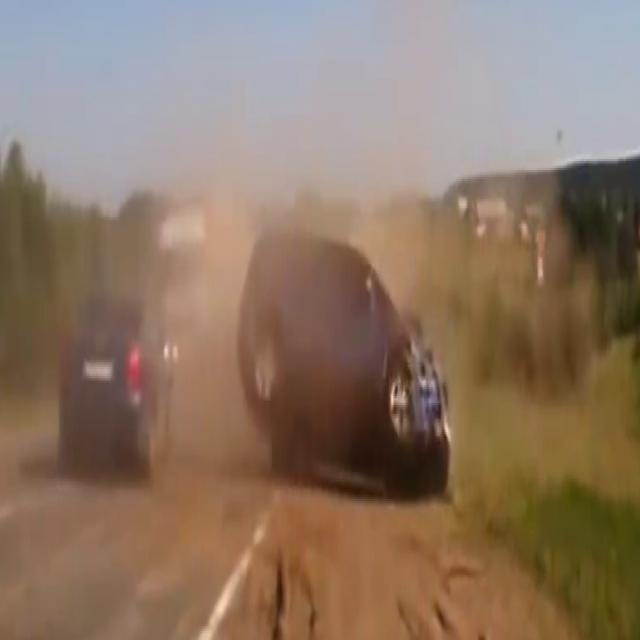accident: (232, 186, 464, 492)
